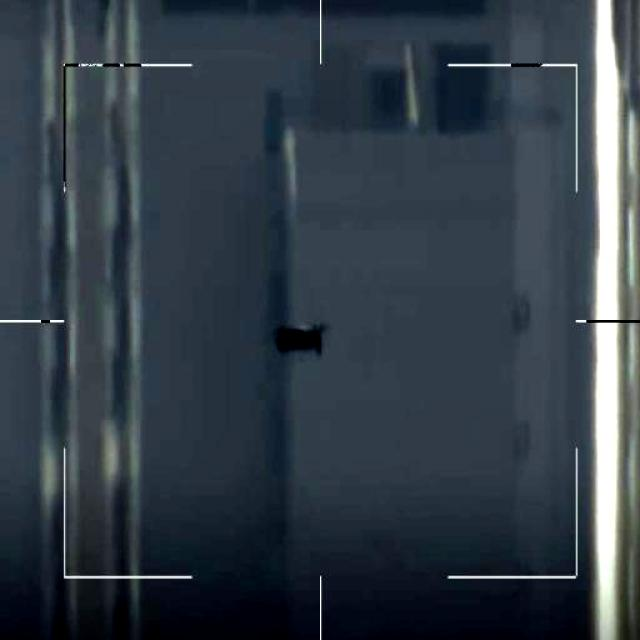bird: (272, 319, 326, 358)
